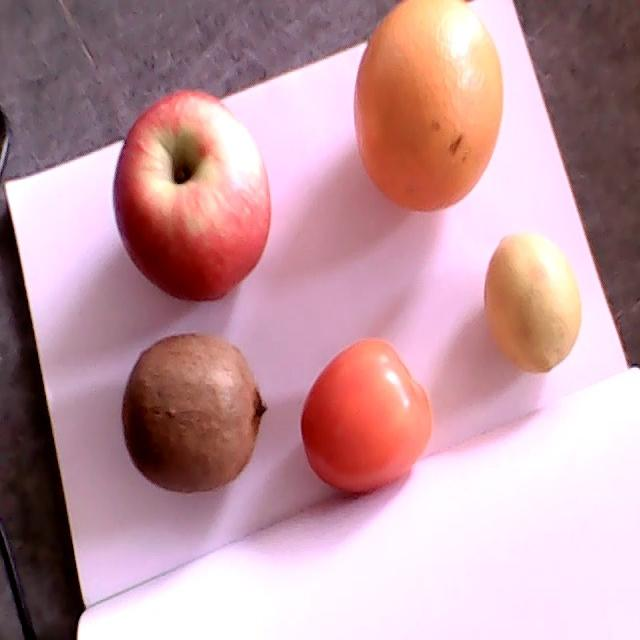apple: (114, 89, 271, 301)
kiwi: (121, 334, 270, 493)
lemon: (485, 234, 582, 374)
orange: (354, 0, 504, 211)
tomato: (300, 338, 433, 494)
